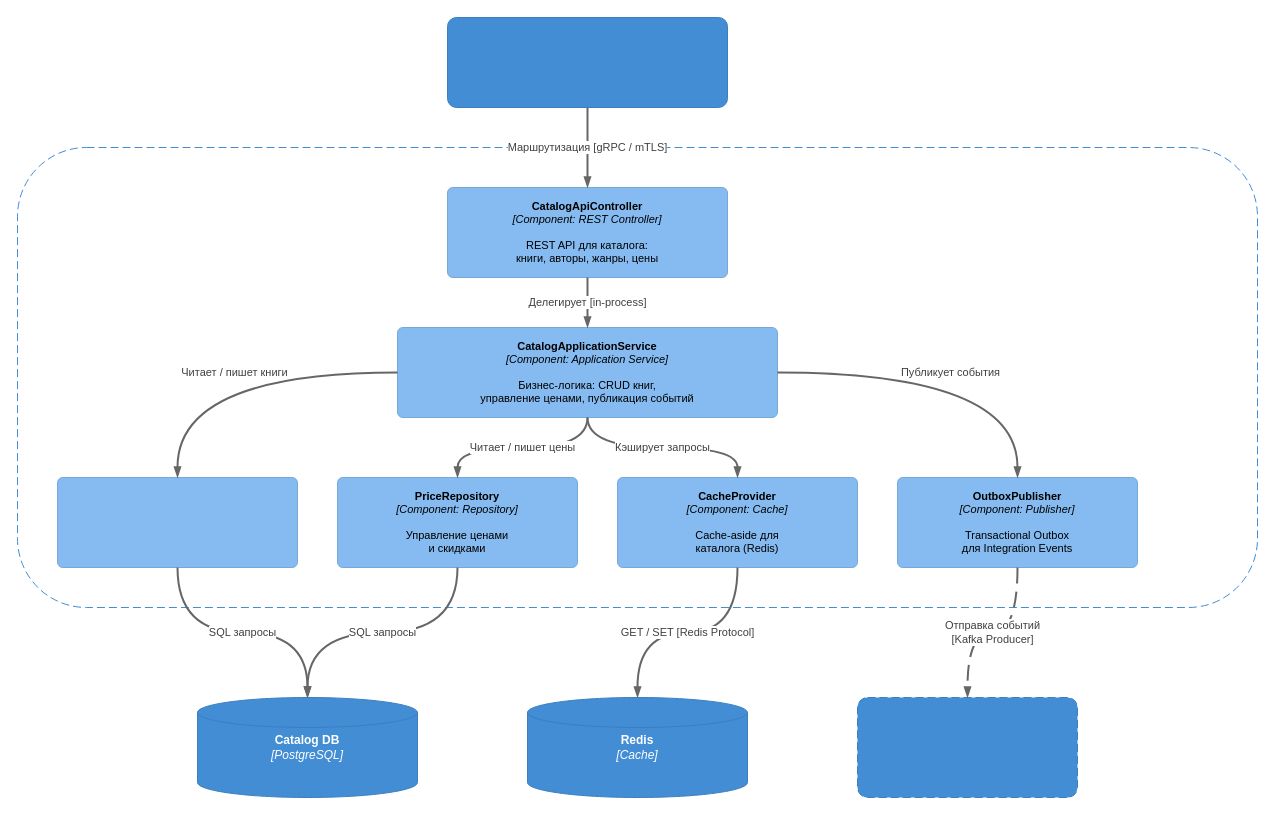
Image size: 1275x815. Some labels were removed from this diagram. Here are the shapes that lost their labels. From the top down, the box of each, then its label:
(446, 16, 728, 108): API Gateway / BFF [Container: .NET 8] Маршрутизация запросов
(16, 146, 1258, 608): Catalog Service [Container: .NET 8]
(56, 476, 298, 568): BookRepository [Component: Repository] Доступ к данным книг и авторов
(856, 696, 1078, 798): Kafka [Message Broker]
